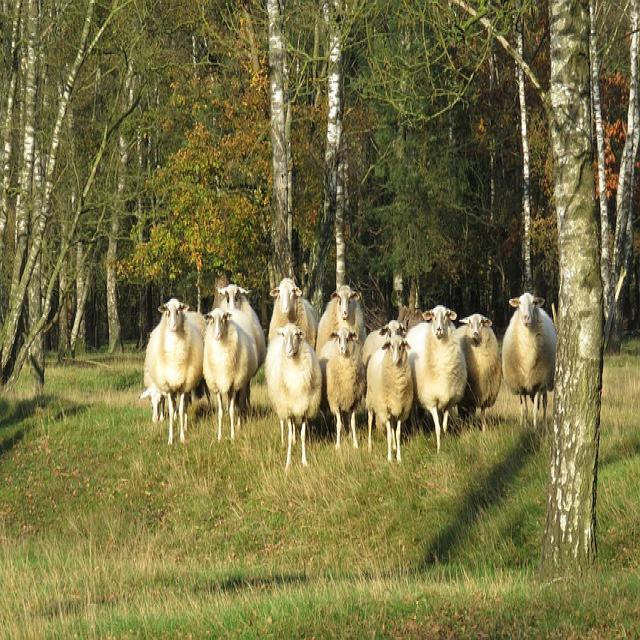goat: (139, 299, 210, 446), (264, 323, 322, 473), (410, 309, 471, 449), (201, 308, 262, 440), (316, 299, 366, 442), (365, 323, 415, 463), (501, 294, 560, 407), (456, 314, 502, 422)
